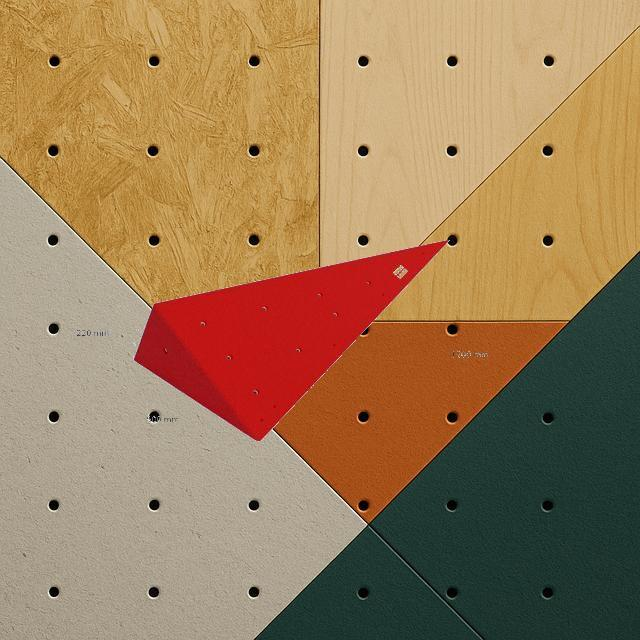Volume: (133, 238, 451, 444)
